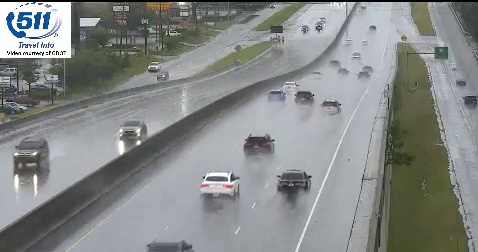car: (201, 172, 239, 199), (278, 170, 311, 193), (243, 134, 275, 156), (321, 99, 341, 114), (294, 90, 314, 105), (268, 90, 285, 103), (283, 81, 297, 93)
